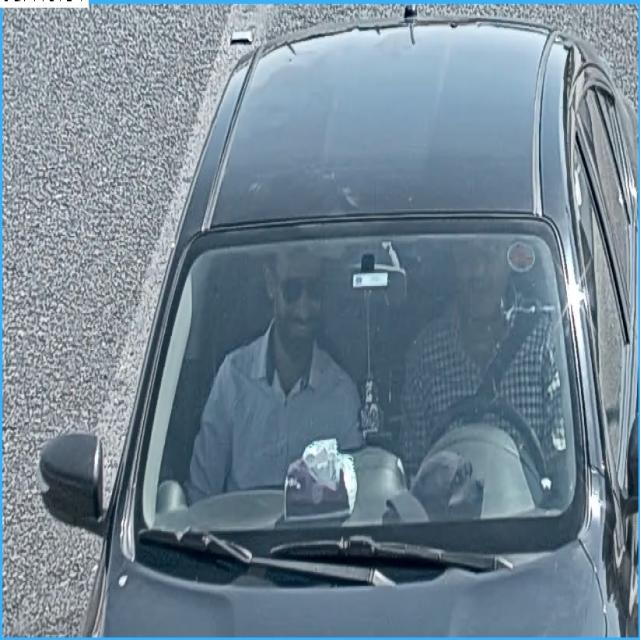windshield: (129, 236, 589, 541)
